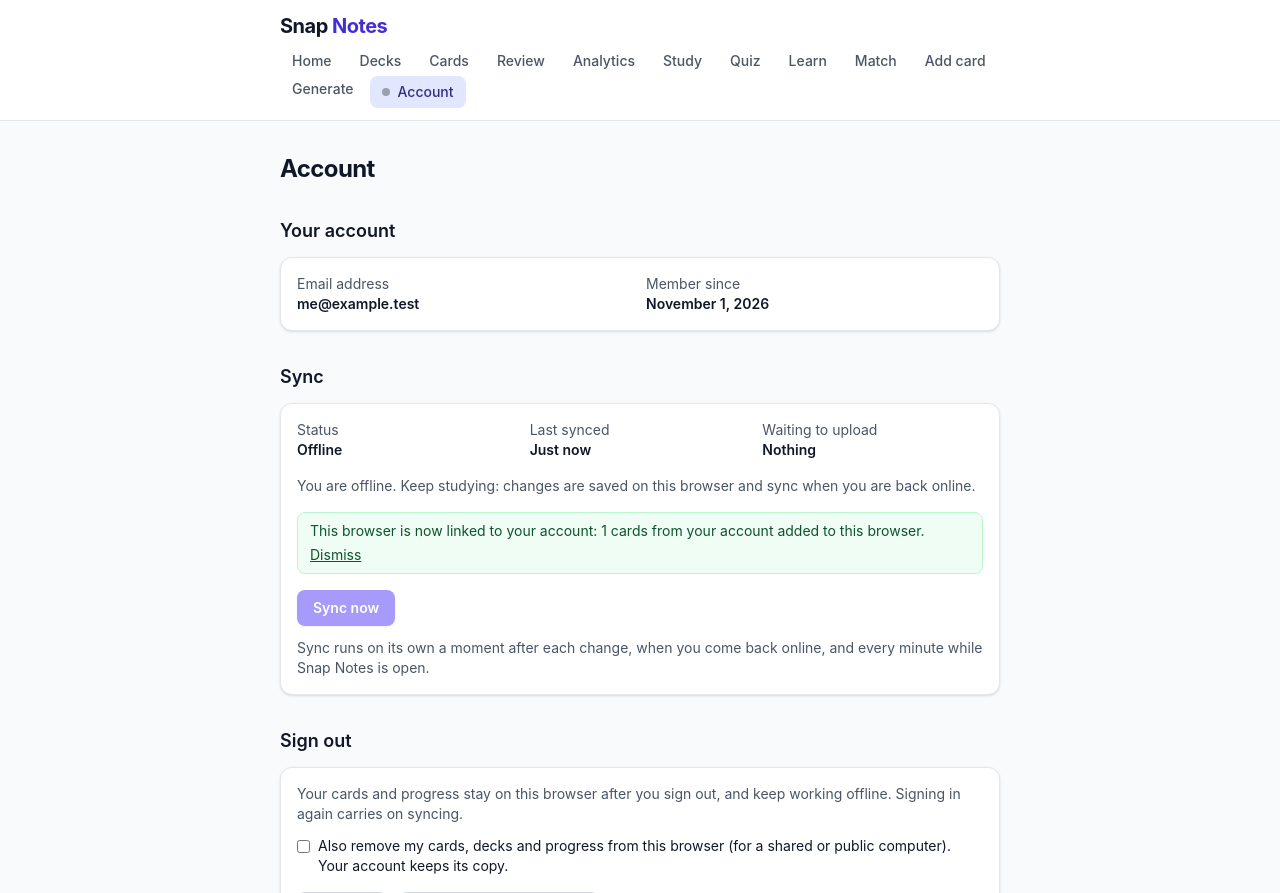
Test: offline studying › saves reviews locally while offline and uploads them when the connection returns
This screenshot has width=1280, height=893.
expect the link with aria-label "Account: Offline" is shown: met, box 370,76 -> 466,108
Click the link "Review" at (521, 60), box 497,52 -> 545,69
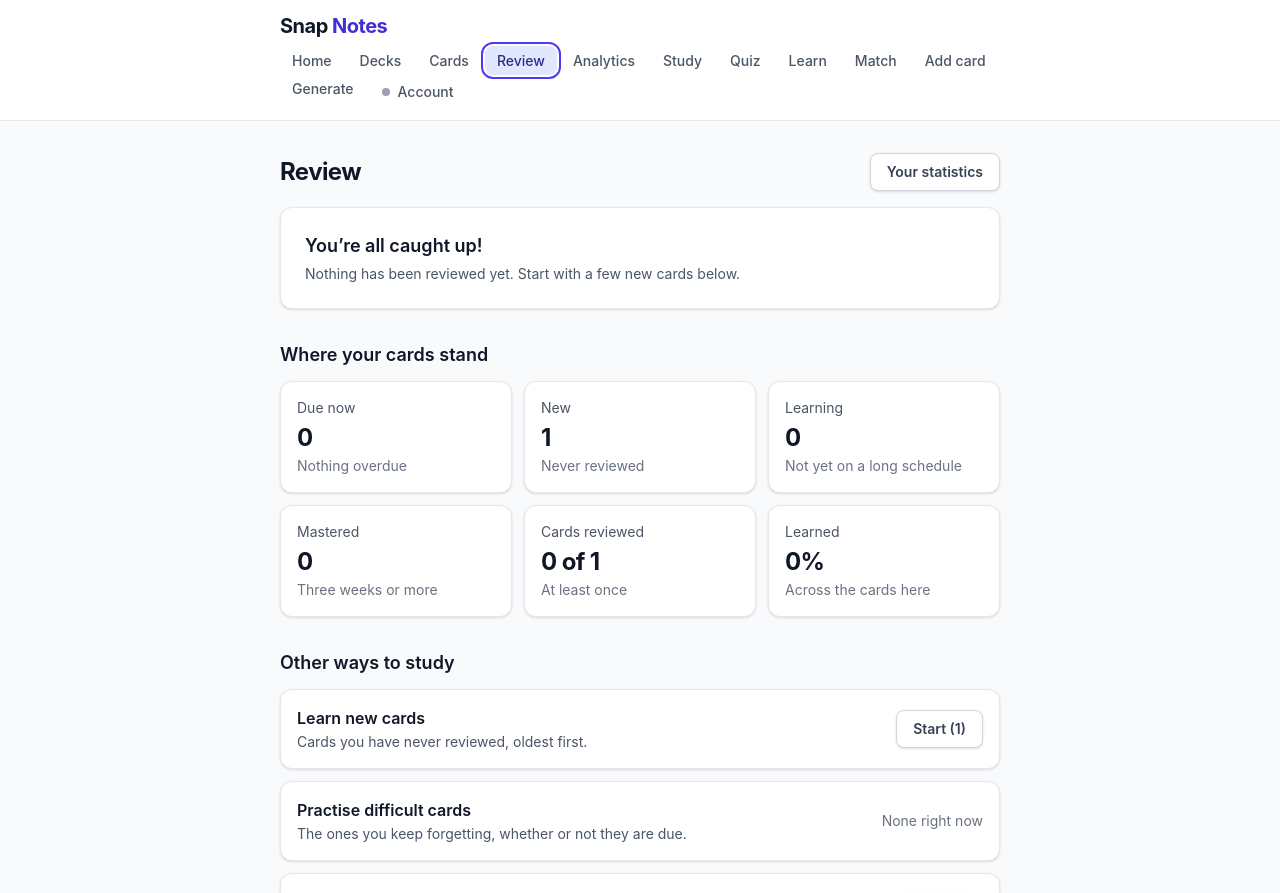
Click the link with aria-label "Learn new cards (1)" at (940, 729), box 896,710 -> 983,748
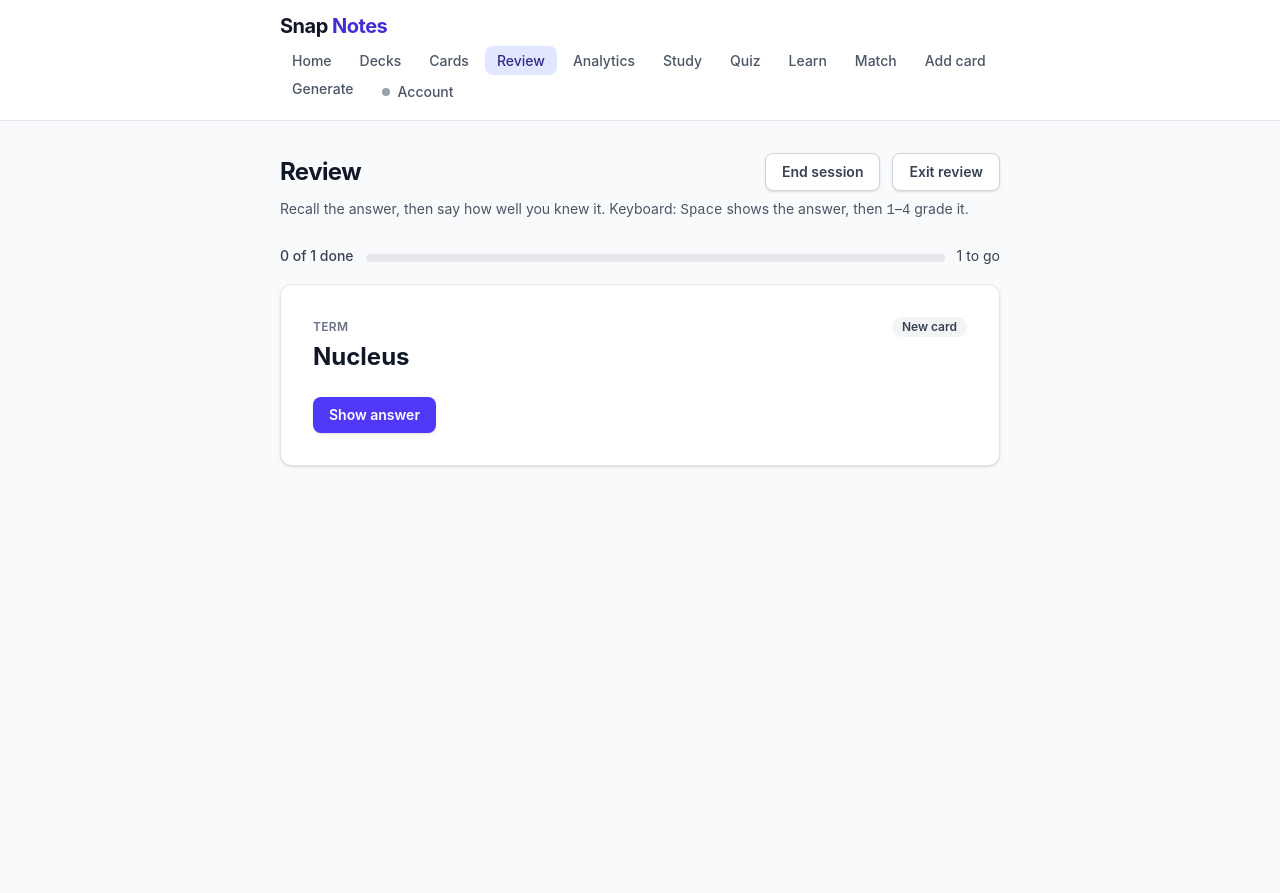
Click the button "Show answer" at (374, 415), box 313,397 -> 436,433
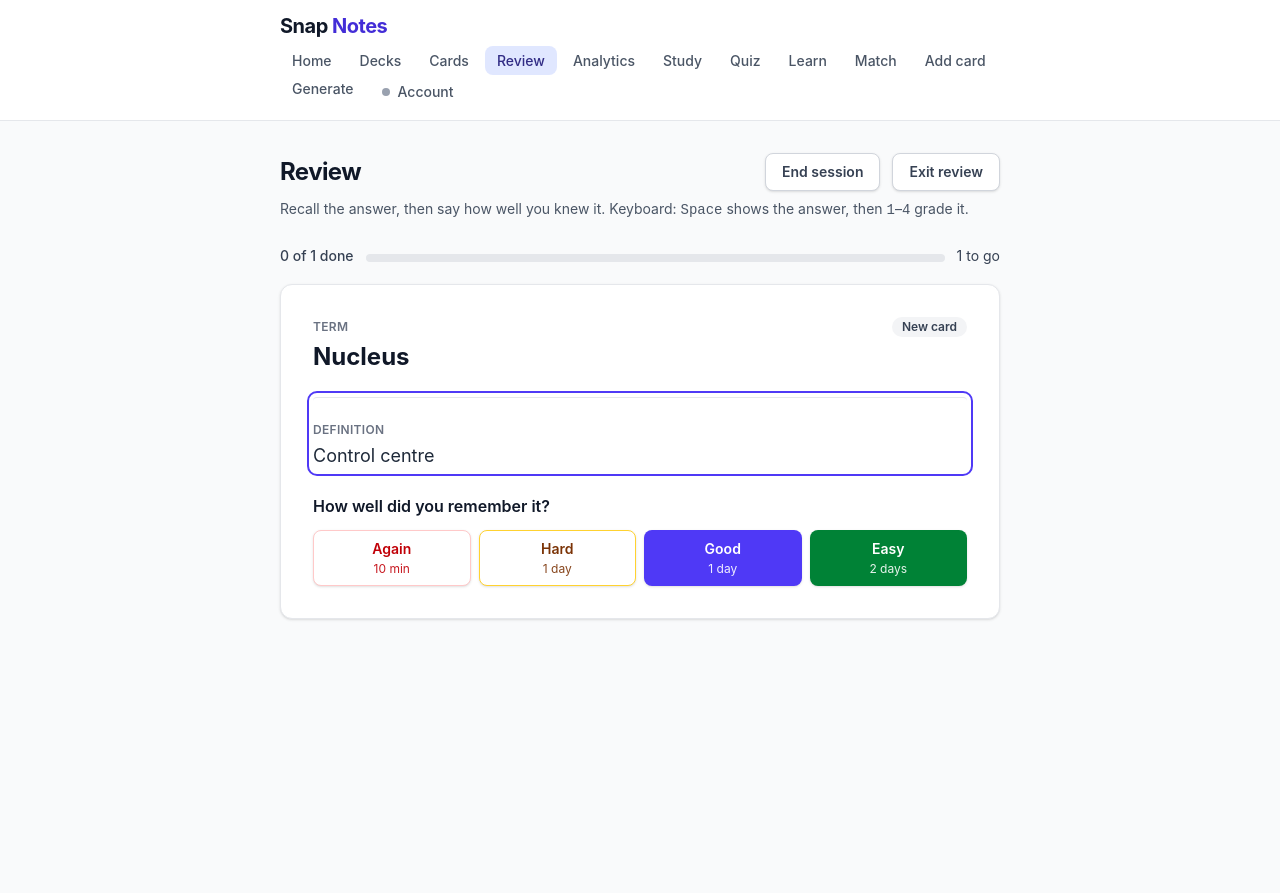
Click the button "Good 1 day" at (723, 558), box 644,530 -> 802,586
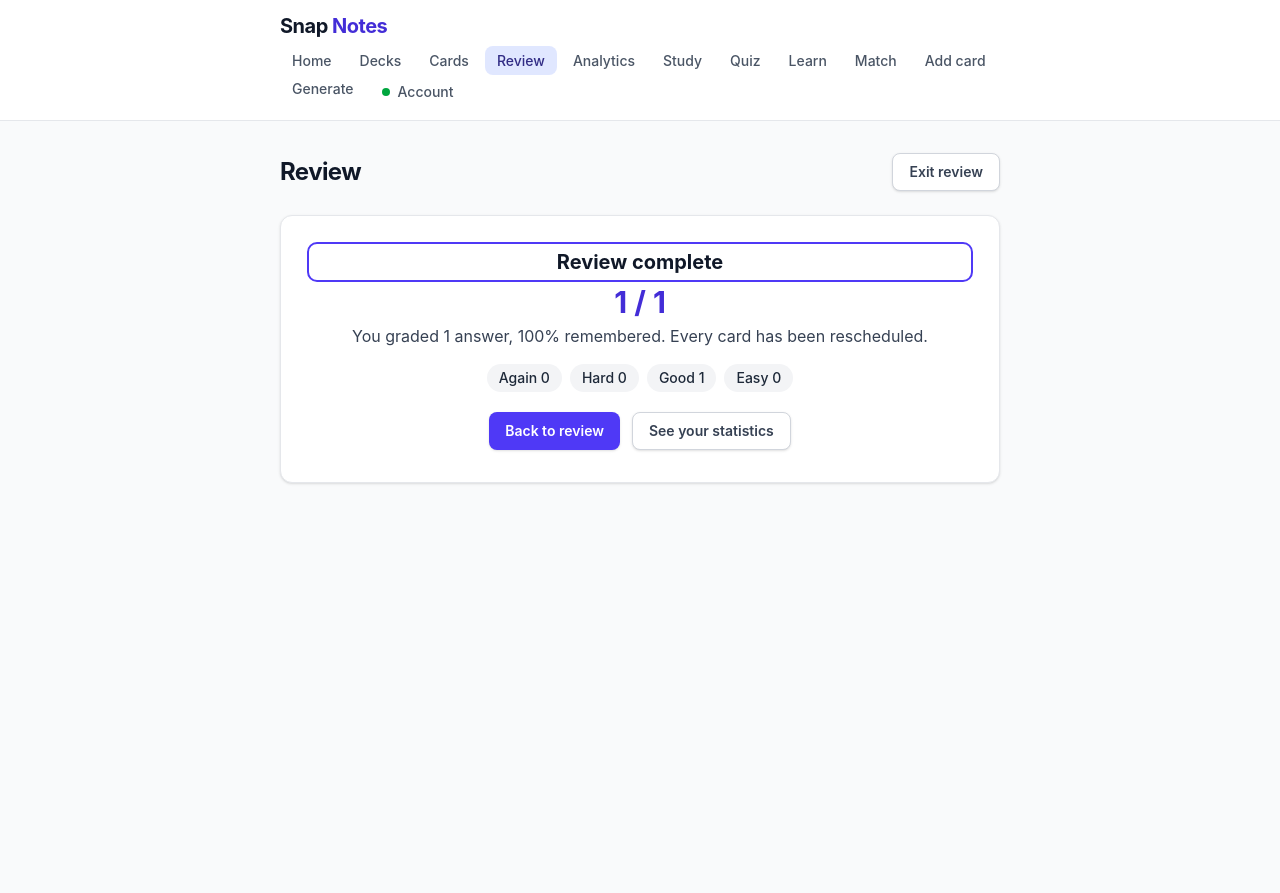
expect the link with aria-label "Account: Synced" is shown: met, box 382,83 -> 454,100
